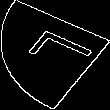L_SE: (15, 28, 95, 82)
